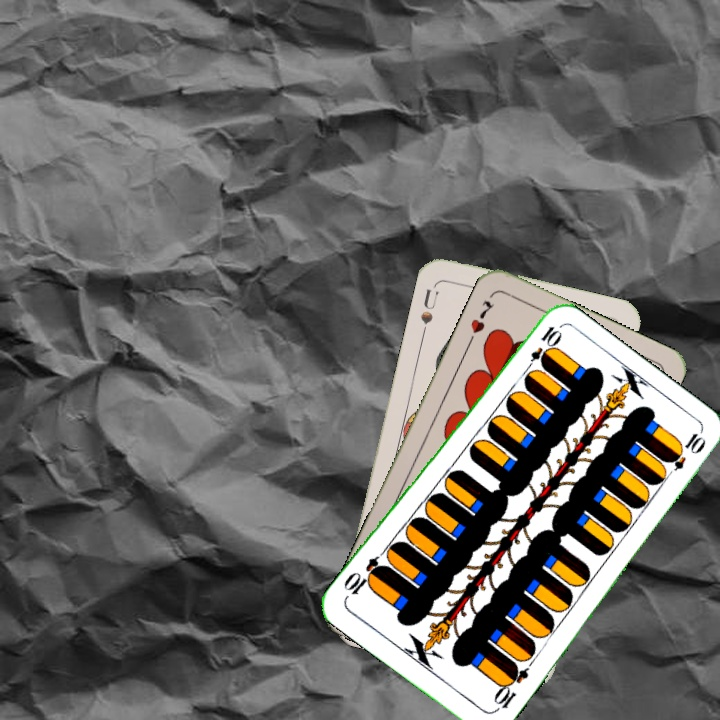E10: (489, 660, 532, 715), (520, 322, 563, 376)
H7: (464, 296, 496, 347)
SU: (416, 285, 441, 338)
